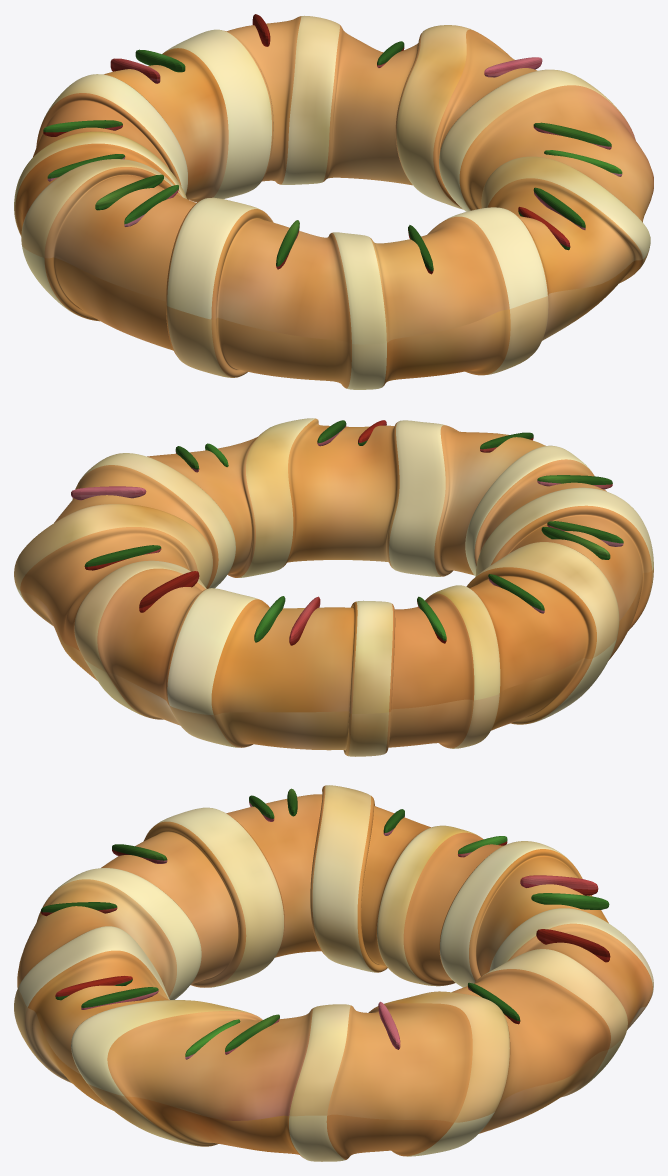
File: AL_RoscaReyes.fbx
3 renders of one model, top to bottom at view 1: azimuth 30°, elevation 25°; view 2: azimuth 150°, elevation 25°; view 3: azimuth 270°, elevation 25°, orthographic. The views are drawn at different scales.
Visible parts, largest first — view 1: Torus; view 2: Torus; view 3: Torus.
Boxes of the visible parts, box(x1,y1,x2,y2) form: Torus: box(14, 14, 653, 389); Torus: box(14, 418, 653, 756); Torus: box(14, 785, 653, 1161).
Bounding box in the file's own units: 0.6556 × 0.1894 × 0.6602.
